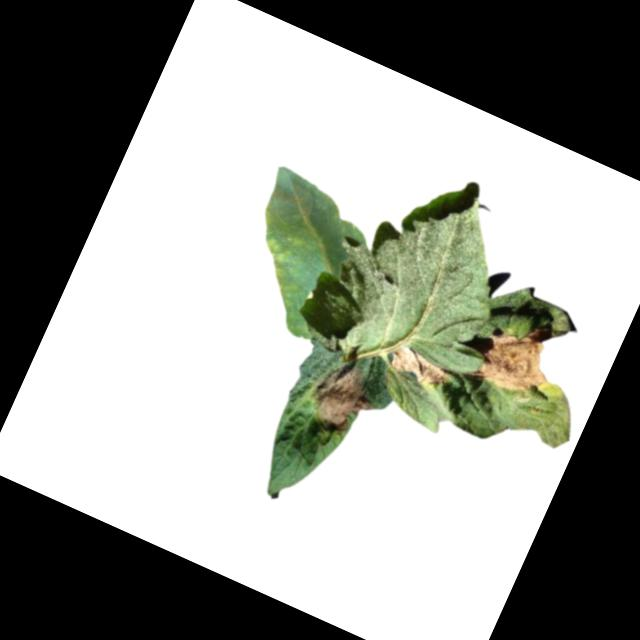Late_blight: (461, 304, 566, 406), (299, 352, 394, 446), (250, 226, 321, 300), (386, 345, 454, 394)
healthy: (302, 140, 547, 400)
